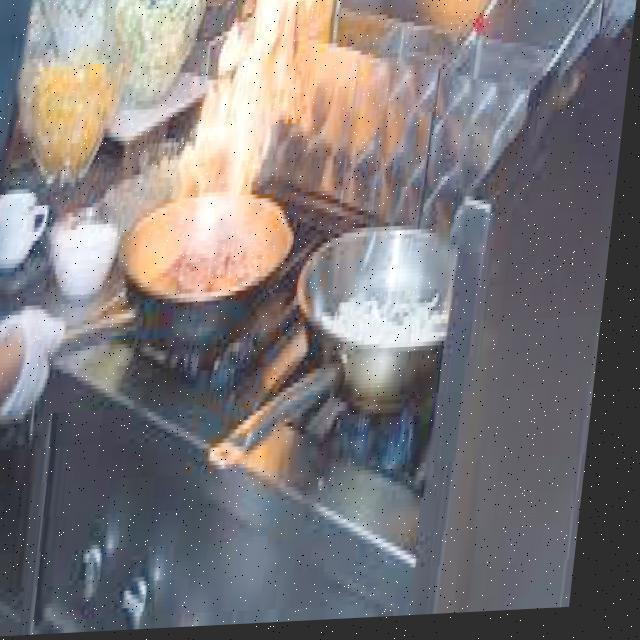Fire: (158, 4, 328, 306)
